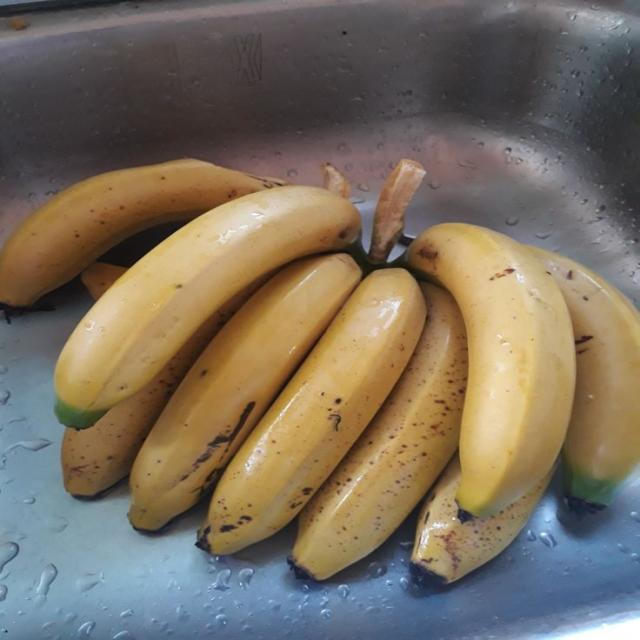unpeal banana: (55, 187, 359, 427), (198, 269, 426, 553), (129, 254, 361, 530), (290, 284, 467, 579), (407, 224, 575, 516), (61, 282, 259, 497), (0, 159, 283, 307), (530, 248, 639, 512), (410, 457, 553, 584), (81, 263, 126, 300)
